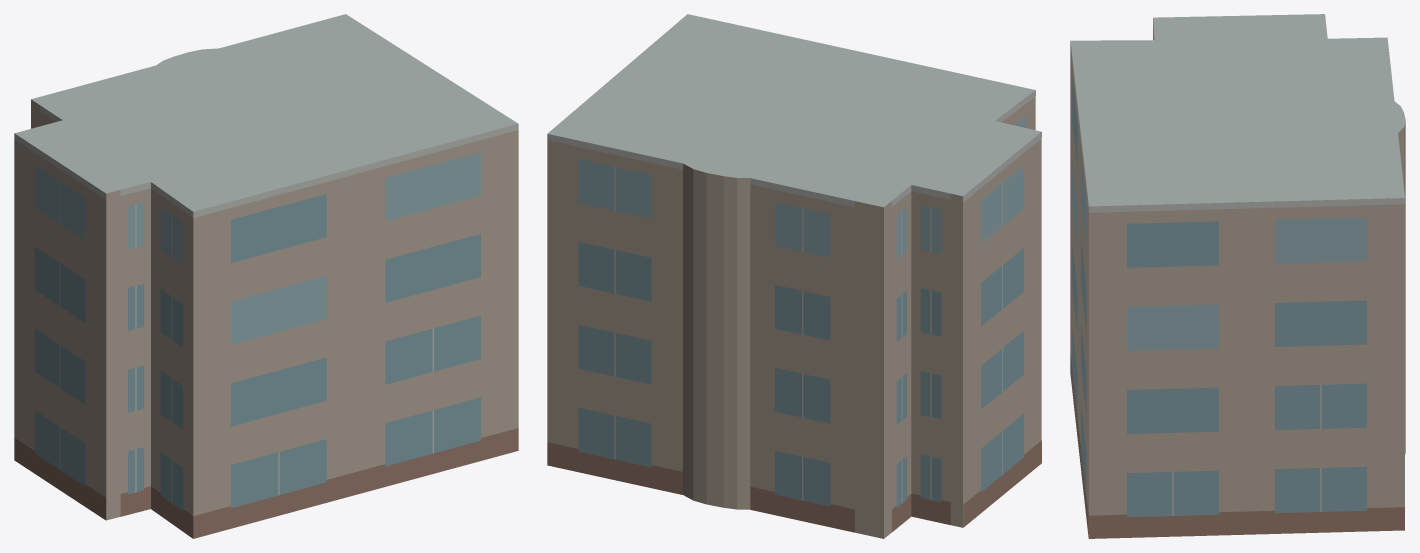
Rendered from survey-upis-32747116.glb.
The picture shows the model from 3 angles, left to right: view 1: azimuth 30°, elevation 25°; view 2: azimuth 150°, elevation 25°; view 3: azimuth 270°, elevation 25°; orthographic projection.
Visible parts, largest first — view 1: survey-upis-32747116.tmp; view 2: survey-upis-32747116.tmp; view 3: survey-upis-32747116.tmp.
Boxes of the visible parts, x1,y1,x2,y2 form: survey-upis-32747116.tmp: (14, 14, 518, 538); survey-upis-32747116.tmp: (547, 14, 1041, 538); survey-upis-32747116.tmp: (1070, 14, 1405, 538).
Size of the model in its own units: 15.9 by 12.8 by 11.7.
